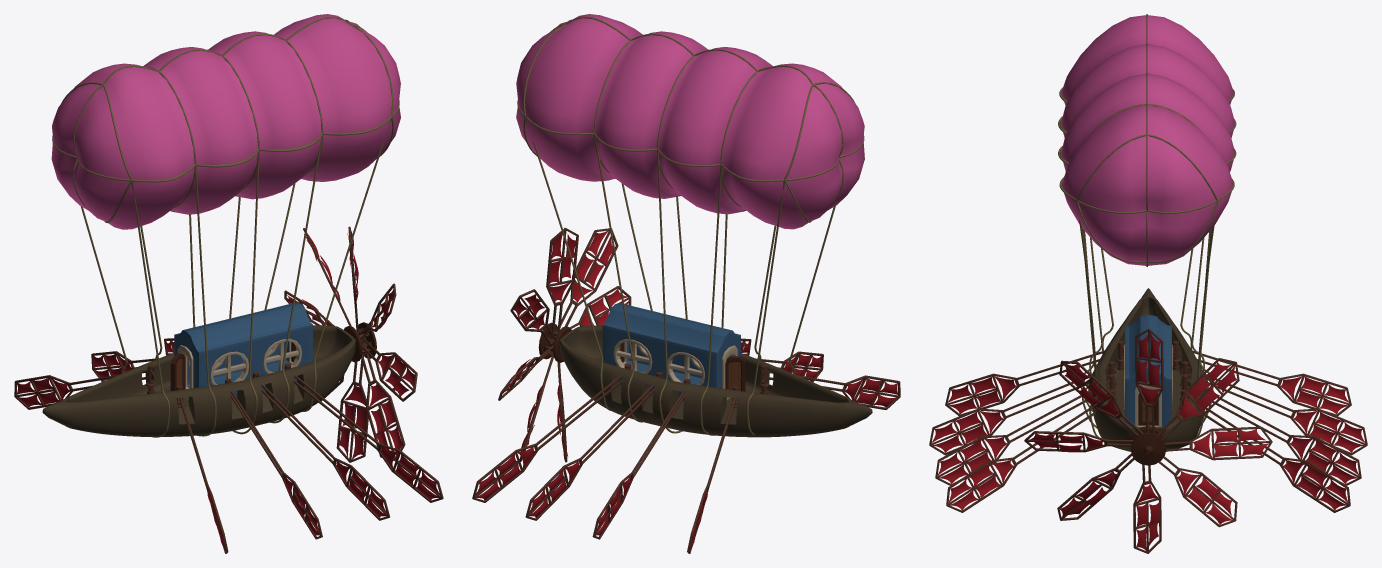
Rendered from Flying ship.fbx.
3 renders of one model, left to right at view 1: azimuth 30°, elevation 25°; view 2: azimuth 150°, elevation 25°; view 3: azimuth 270°, elevation 25°, orthographic. The views are drawn at different scales.
Parts seen in each view (by area): view 1: balloon flying ship, flying ship, rope flying ship, cabin flying ship, paddle flying ship, paddle flying ship003, paddle flying ship009, paddle flying ship013, paddle flying ship012, paddle flying ship004, window flying ship, paddle flying ship014 (+5 smaller); view 2: balloon flying ship, flying ship, rope flying ship, cabin flying ship, paddle flying ship006, paddle flying ship007, paddle flying ship015, paddle flying ship005, paddle flying ship016, paddle flying ship008, window flying ship, paddle flying ship017 (+6 smaller); view 3: balloon flying ship, flying ship, rope flying ship, cabin flying ship, paddle flying ship004, paddle flying ship009, paddle flying ship005, paddle flying ship008, paddle flying ship003, paddle flying ship007, paddle flying ship, paddle flying ship006 (+9 smaller).
Boxes of the visible parts, x1,y1,x2,y2 form: balloon flying ship: (51, 14, 400, 229); flying ship: (42, 325, 355, 436); rope flying ship: (52, 16, 399, 437); cabin flying ship: (174, 302, 312, 397); paddle flying ship: (284, 363, 443, 502); paddle flying ship003: (252, 371, 389, 520); paddle flying ship009: (14, 364, 155, 409); paddle flying ship013: (361, 346, 405, 461); paddle flying ship012: (336, 353, 368, 462); paddle flying ship004: (225, 378, 322, 539); window flying ship: (188, 338, 301, 385); paddle flying ship014: (361, 338, 417, 401); balloon flying ship: (516, 14, 864, 229); flying ship: (559, 325, 872, 437); rope flying ship: (517, 16, 864, 435); cabin flying ship: (602, 303, 740, 397); paddle flying ship006: (472, 364, 630, 502); paddle flying ship007: (525, 372, 662, 520); paddle flying ship015: (555, 228, 618, 331); paddle flying ship005: (759, 364, 900, 409); paddle flying ship016: (546, 227, 578, 338); paddle flying ship008: (592, 378, 690, 539); window flying ship: (613, 339, 704, 385); paddle flying ship017: (510, 289, 555, 345); balloon flying ship: (1061, 15, 1234, 265); flying ship: (1088, 288, 1208, 451); rope flying ship: (1058, 14, 1236, 442); cabin flying ship: (1125, 314, 1171, 426); paddle flying ship004: (929, 361, 1116, 455); paddle flying ship009: (1172, 341, 1351, 416); paddle flying ship005: (945, 341, 1123, 416); paddle flying ship008: (1180, 361, 1367, 455); paddle flying ship003: (935, 374, 1116, 485); paddle flying ship007: (1180, 374, 1361, 485); paddle flying ship: (946, 389, 1117, 512); paddle flying ship006: (1179, 389, 1350, 512).
Bounding box in the file's own units: 80.93 × 102 × 93.92.
